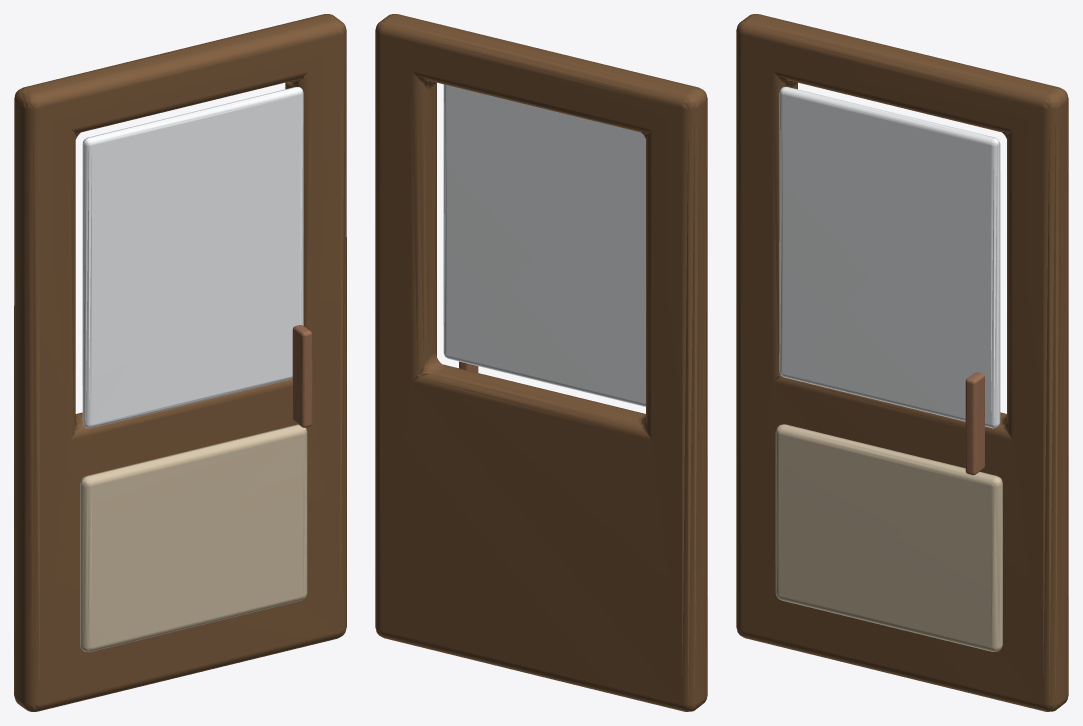
The model's file is SM_Library_Door_Left.fbx.
3 views of the same model, side by side, from view 1: azimuth 30°, elevation 25°; view 2: azimuth 150°, elevation 25°; view 3: azimuth 330°, elevation 25° (orthographic).
Parts seen in each view (by area): view 1: LIB_Door_Entrance_Left.001; view 2: LIB_Door_Entrance_Left.001; view 3: LIB_Door_Entrance_Left.001.
Boxes of the visible parts, left/top/right/bottom form: LIB_Door_Entrance_Left.001: left=14, top=14, right=346, bottom=711; LIB_Door_Entrance_Left.001: left=375, top=14, right=707, bottom=711; LIB_Door_Entrance_Left.001: left=736, top=14, right=1068, bottom=711.
Bounding box in the file's own units: 106 × 22.75 × 194.
